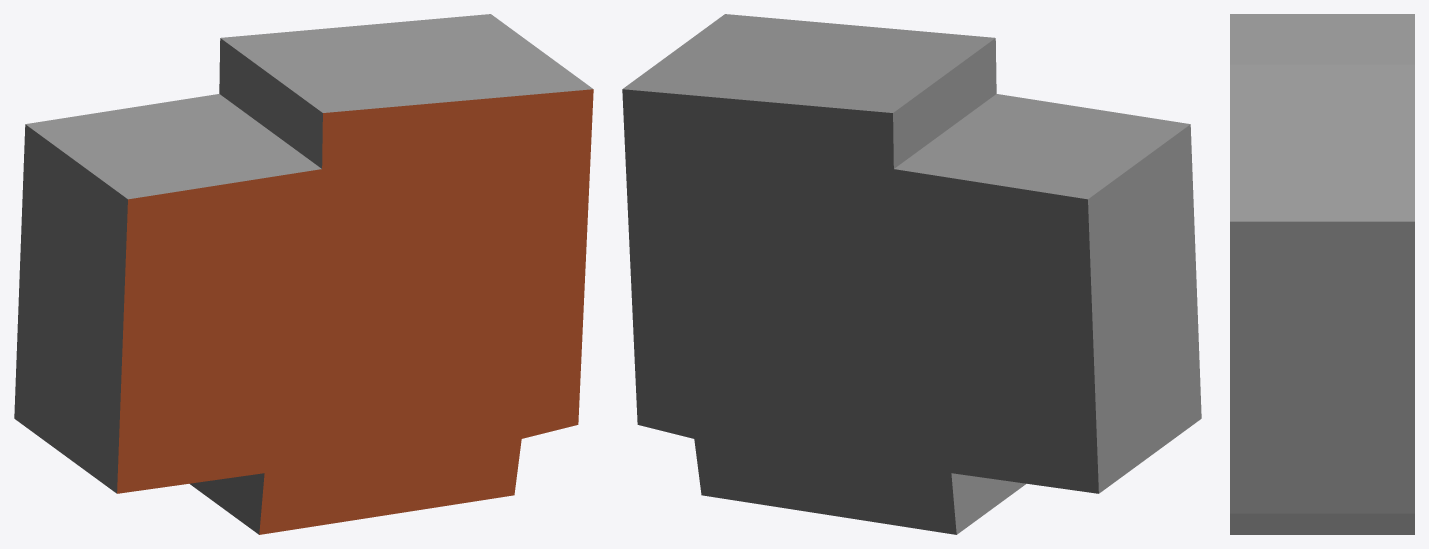
Rendered from construction_3695_assumed_A_Casa_h6m.obj.
3 views of the same model, side by side, from view 1: azimuth 30°, elevation 25°; view 2: azimuth 150°, elevation 25°; view 3: azimuth 270°, elevation 25° (orthographic). The views are drawn at different scales.
Visible parts, largest first — view 1: construction_3695_assumed_A_Casa; view 2: construction_3695_assumed_A_Casa; view 3: construction_3695_assumed_A_Casa.
Boxes of the visible parts, left/top/right/bottom form: construction_3695_assumed_A_Casa: left=14, top=14, right=593, bottom=534; construction_3695_assumed_A_Casa: left=622, top=14, right=1201, bottom=534; construction_3695_assumed_A_Casa: left=1230, top=14, right=1414, bottom=534.
Bounding box in the file's own units: 16.07 × 13.82 × 6.
